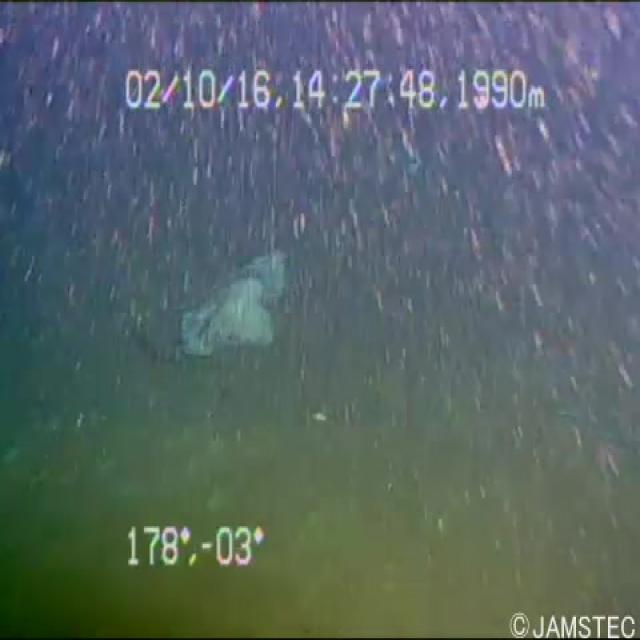plastic: (169, 219, 308, 398), (363, 132, 421, 190)
